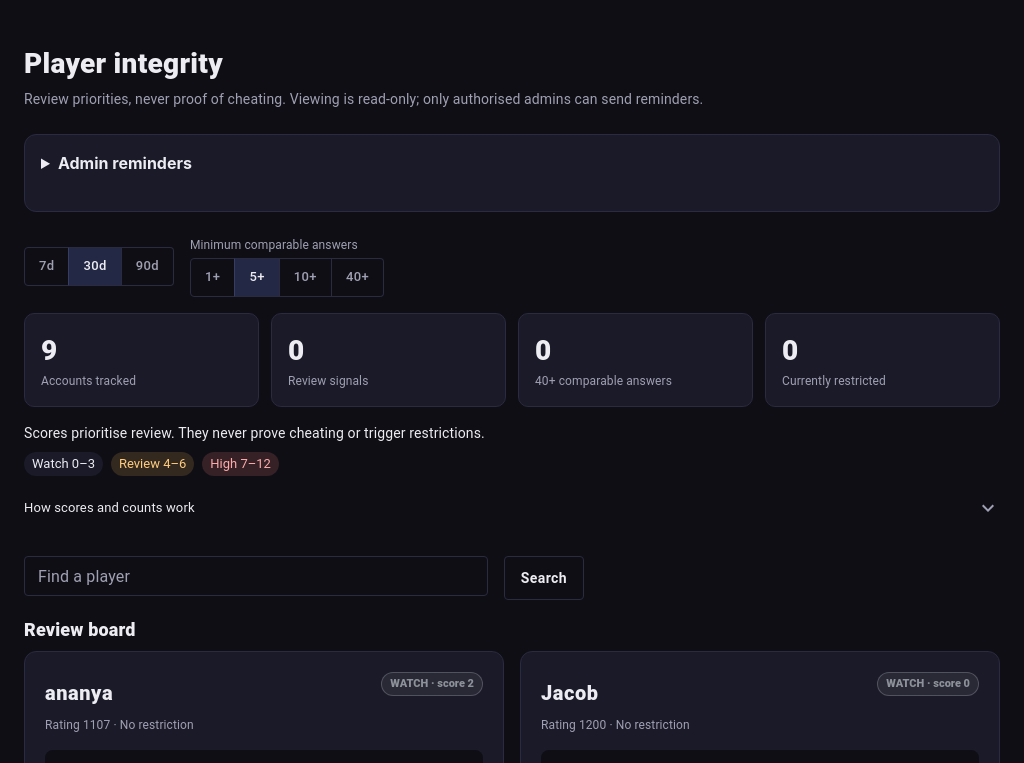
Test: integrity panel with live-shaped data › the evidence distinguishes comparable answers, total attempts and receipt gaps
Click the button "ananya". click: (79, 694)
box: x1=45 y1=672 x2=113 y2=716
(page scrolled)
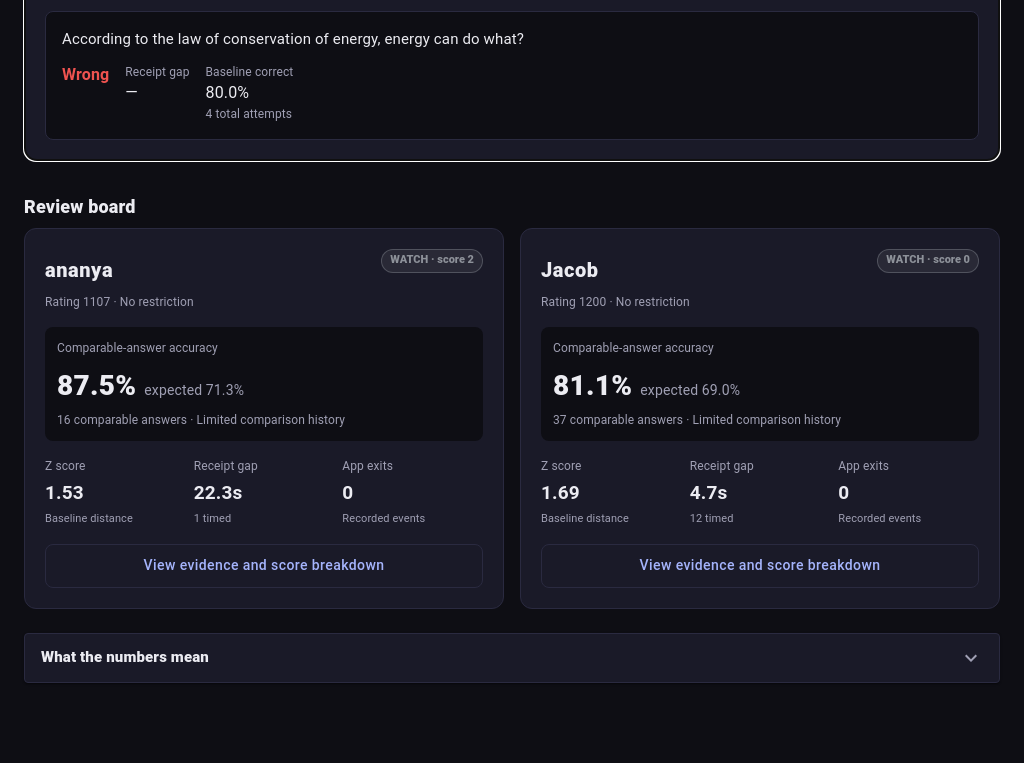
Result: the text "law of conservation of energy" is shown at x1=62 y1=30 x2=524 y2=48
Result: the text "Wrong" is shown at x1=62 y1=64 x2=109 y2=84
Result: the text "80.0%" is shown at x1=206 y1=82 x2=249 y2=102
